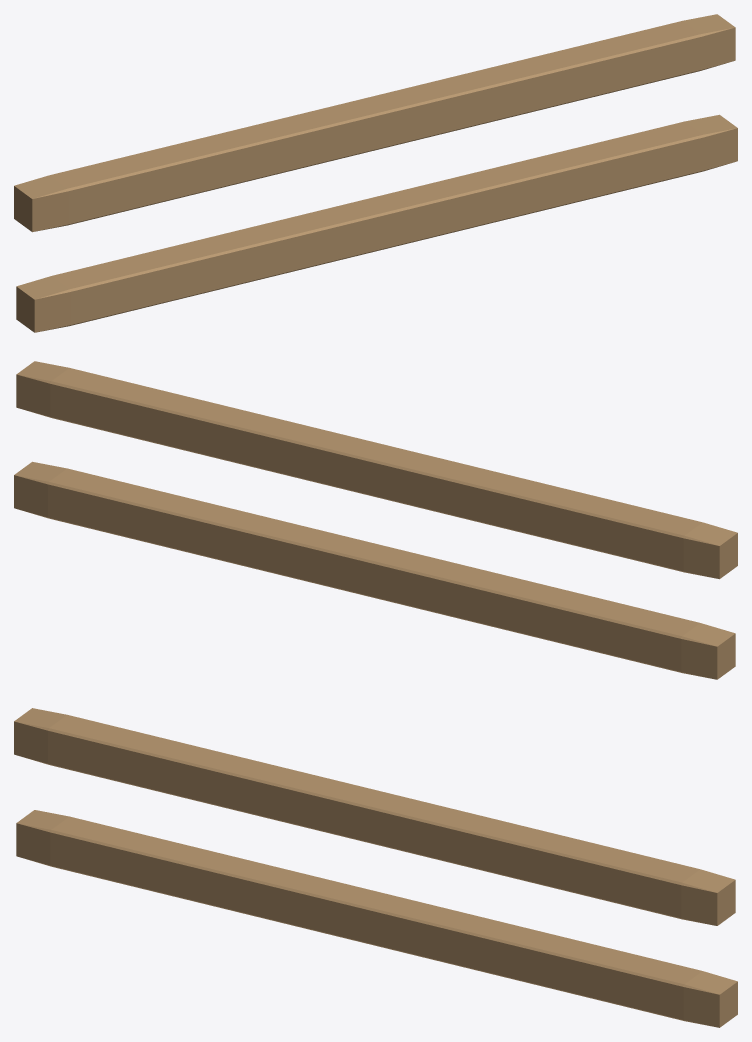
File: Rail.fbx
3 renders of one model, top to bottom at view 1: azimuth 30°, elevation 25°; view 2: azimuth 150°, elevation 25°; view 3: azimuth 330°, elevation 25°, orthographic.
Visible parts, largest first — view 1: 立方体, 立方体.001; view 2: 立方体, 立方体.001; view 3: 立方体, 立方体.001.
Boxes of the visible parts, box(x1,y1,x2,y2) form: 立方体: box(14, 14, 735, 232); 立方体.001: box(16, 114, 737, 332); 立方体: box(16, 361, 737, 579); 立方体.001: box(14, 461, 735, 679); 立方体: box(14, 708, 735, 925); 立方体.001: box(16, 810, 737, 1027).
Bounding box in the file's own units: 803 × 150 × 40.
